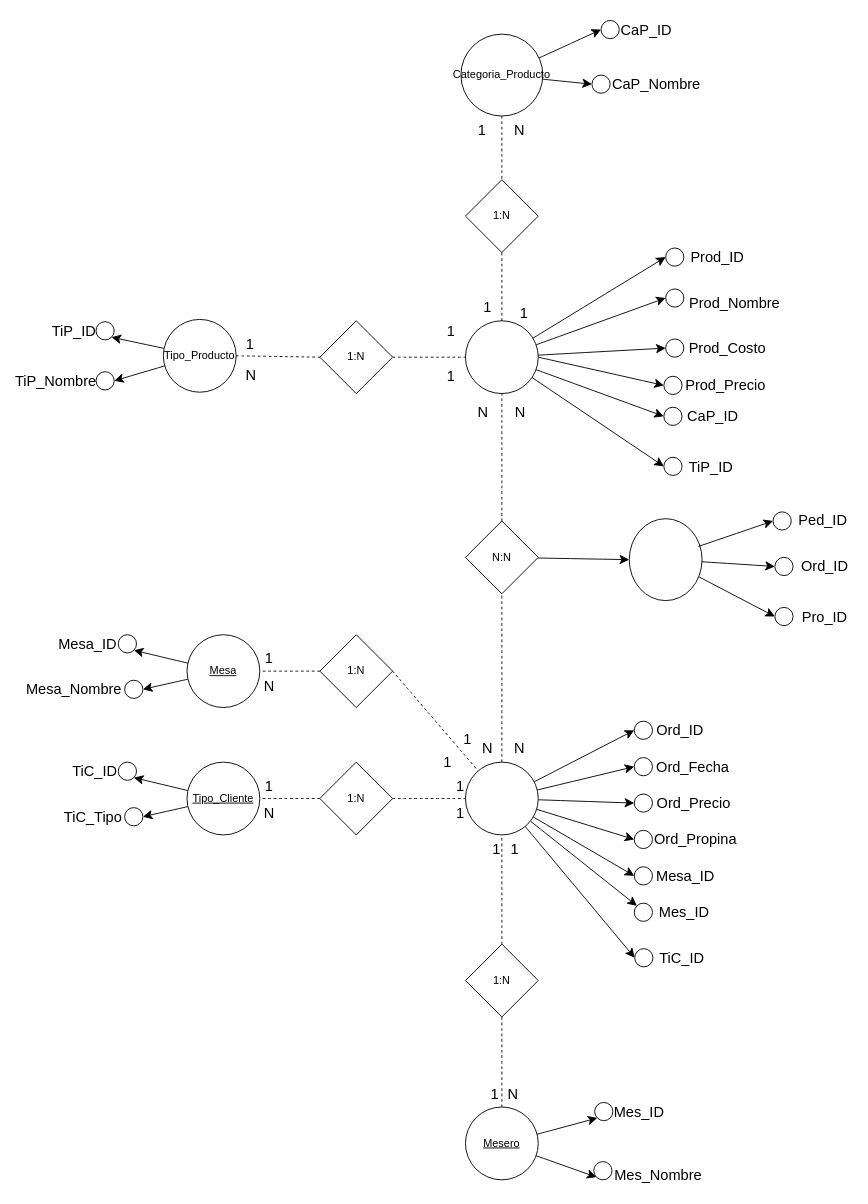
Some shapes in this 868 by 1204 pixel diagram are drawn without their labels. The shapes that lost their labels are listed below. From the top down, each one's centre as x and y in pixels, then its label:
At [501,357]: "Producto".
At [665,559]: "Pedido".
At [501,798]: "Orden".
